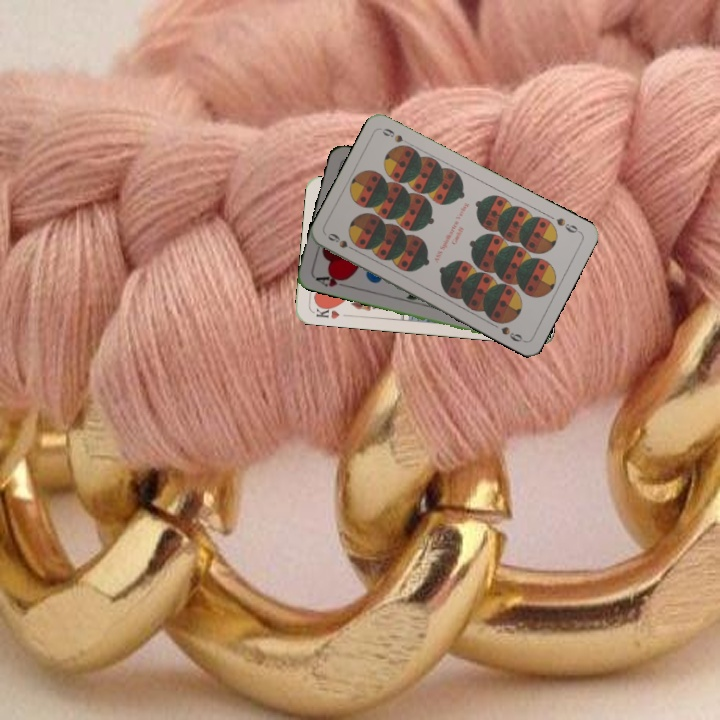HA: (311, 270, 351, 290)
HK: (309, 301, 342, 321)
S9: (323, 229, 361, 255), (552, 214, 584, 236)
